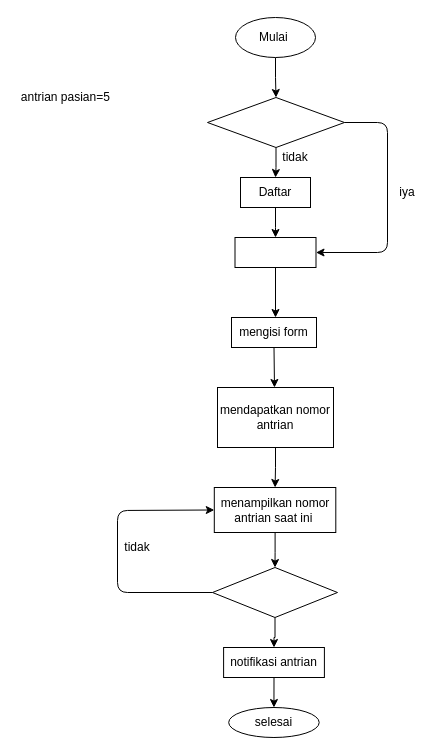
The diagram is 444 pixels wide and 755 high, and some of its shapes have lost their labels. The shapes that lost their labels are listed below. From the top down, each one's centre as x and y in pixels, then its label:
point 275,122: Sudah punya akun?
point 275,252: Login
point 275,592: antrian pasien = 5?
